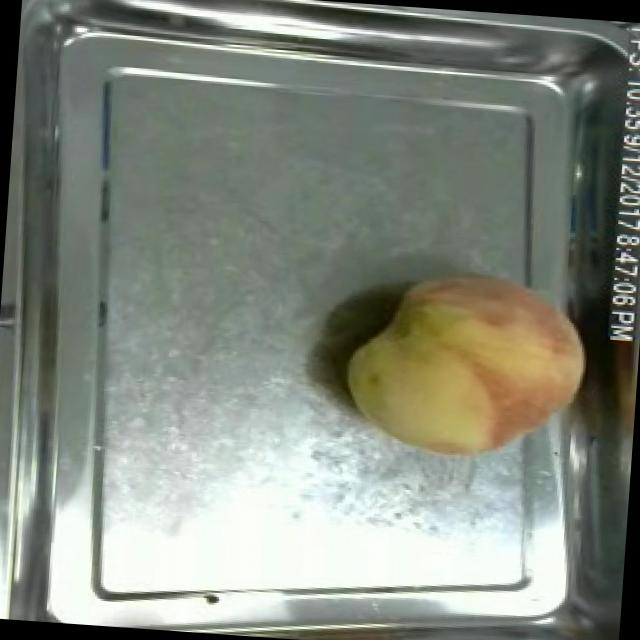Fruit: (332, 254, 602, 477)
